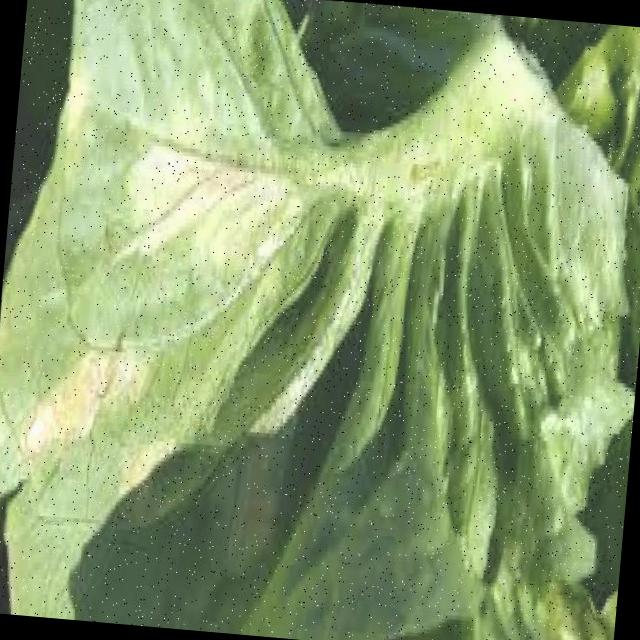Downy_mildew: (21, 120, 322, 496)
